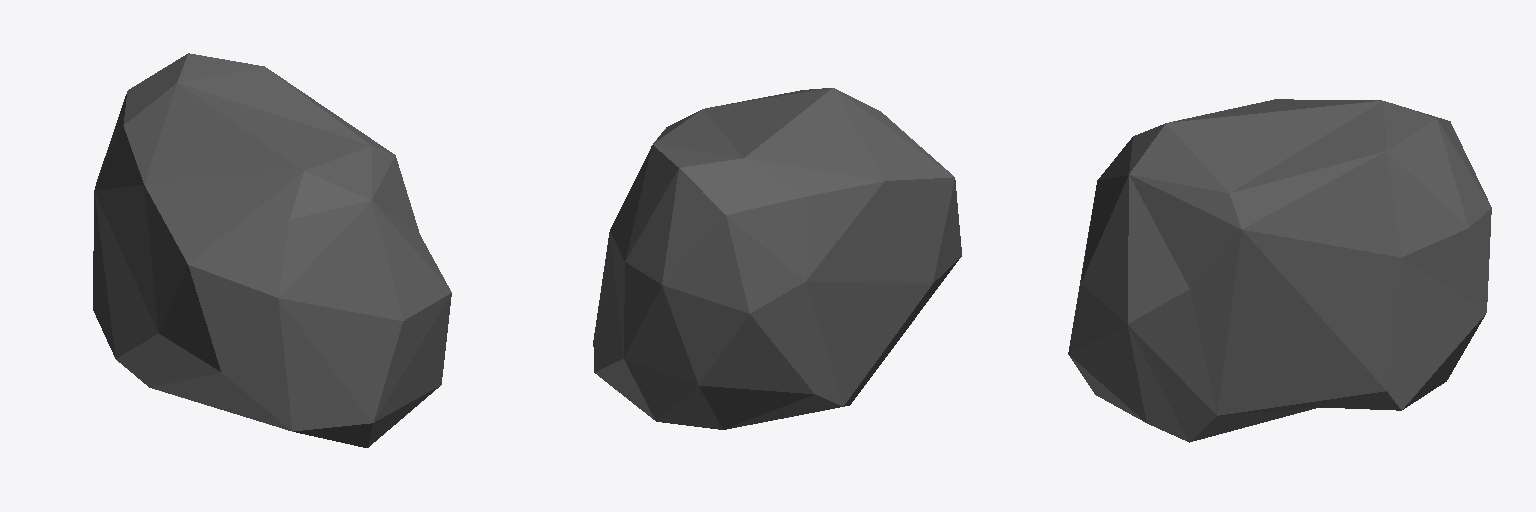
Rendered from Stone01.obj.
The picture shows the model from 3 angles: view 1: azimuth 30°, elevation 25°; view 2: azimuth 150°, elevation 25°; view 3: azimuth 270°, elevation 25°; orthographic projection.
Parts seen in each view (by area): view 1: Cube_Cube.001; view 2: Cube_Cube.001; view 3: Cube_Cube.001.
Boxes of the visible parts, x1,y1,x2,y2 form: Cube_Cube.001: [93, 53, 451, 447]; Cube_Cube.001: [593, 88, 961, 429]; Cube_Cube.001: [1068, 99, 1491, 442].
Bounding box in the file's own units: 3.48 × 3.62 × 4.87.